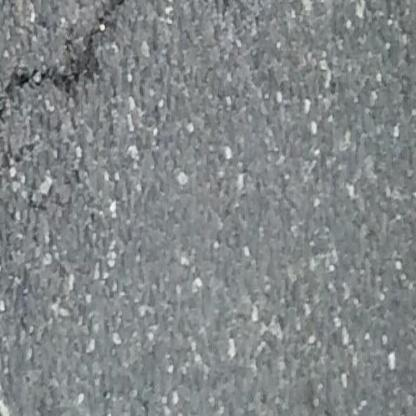Cracks: (0, 0, 141, 118)
